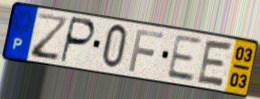0: (100, 22, 130, 73)
E: (195, 38, 235, 89), (164, 33, 204, 84)
F: (127, 28, 166, 74)
P: (58, 16, 97, 66)
Z: (30, 11, 71, 63)
